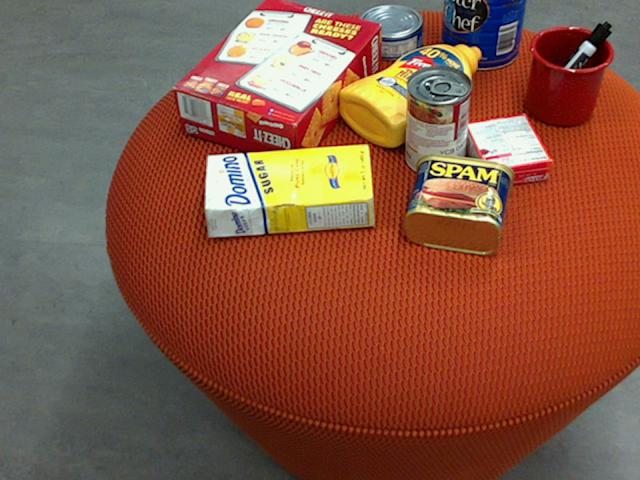cracker_box: (170, 0, 381, 166)
gelatin_box: (464, 115, 553, 187)
large_marker: (531, 19, 611, 111)
master_chef_can: (440, 0, 526, 68)
mug: (525, 25, 613, 125)
mustard_bottle: (338, 44, 481, 146)
potted_meat_can: (403, 152, 512, 254)
sugar_box: (201, 143, 375, 237)
tomato_soup_can: (404, 63, 469, 176)
tuna_fish_can: (357, 3, 422, 57)
